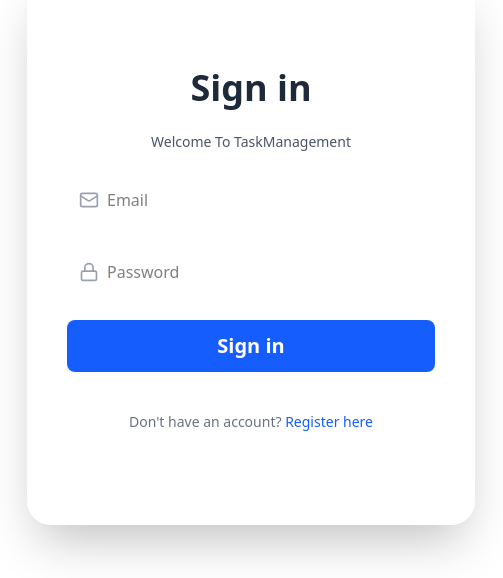
Login Component › shows validation error when email is invalid
The width and height of the screenshot is (503, 578).
Type "invalidemail" into the field with placeholder "Email".
click(251, 200); type("invalidemail")  # box [67, 176, 435, 224]
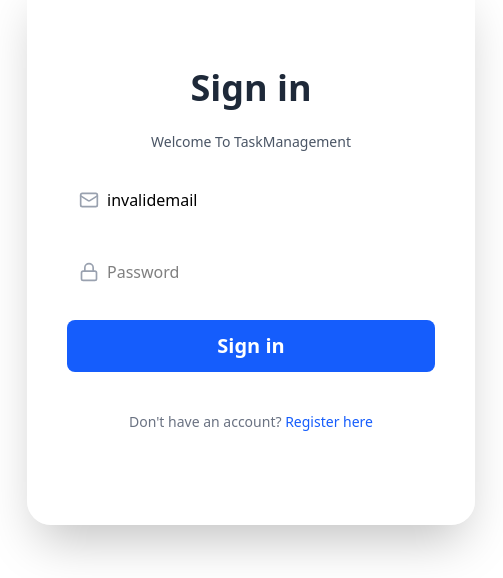
Leave the field with placeholder "Email", box [67, 176, 435, 224]
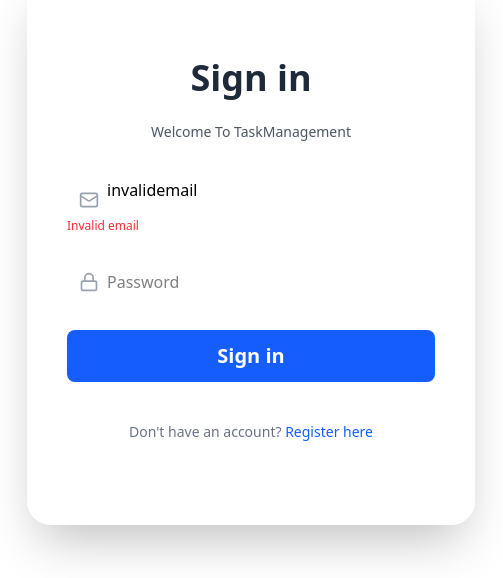
Expected: the text "Invalid email" is shown, [67, 217, 139, 234]
